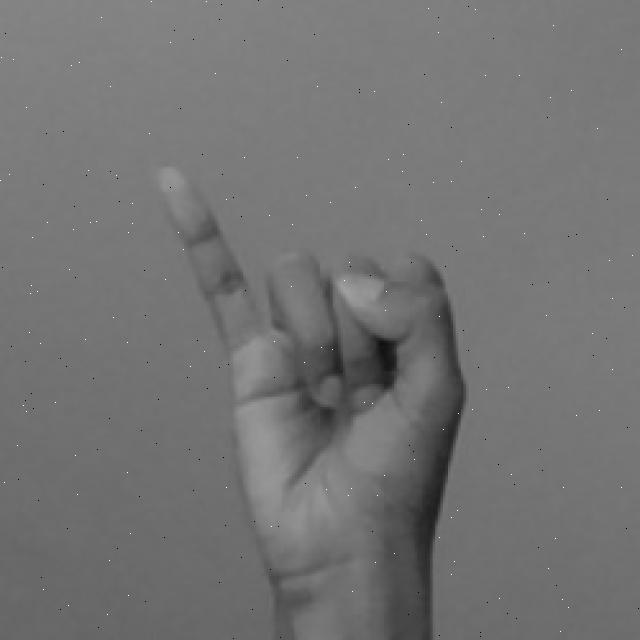I: (154, 160, 475, 640)
